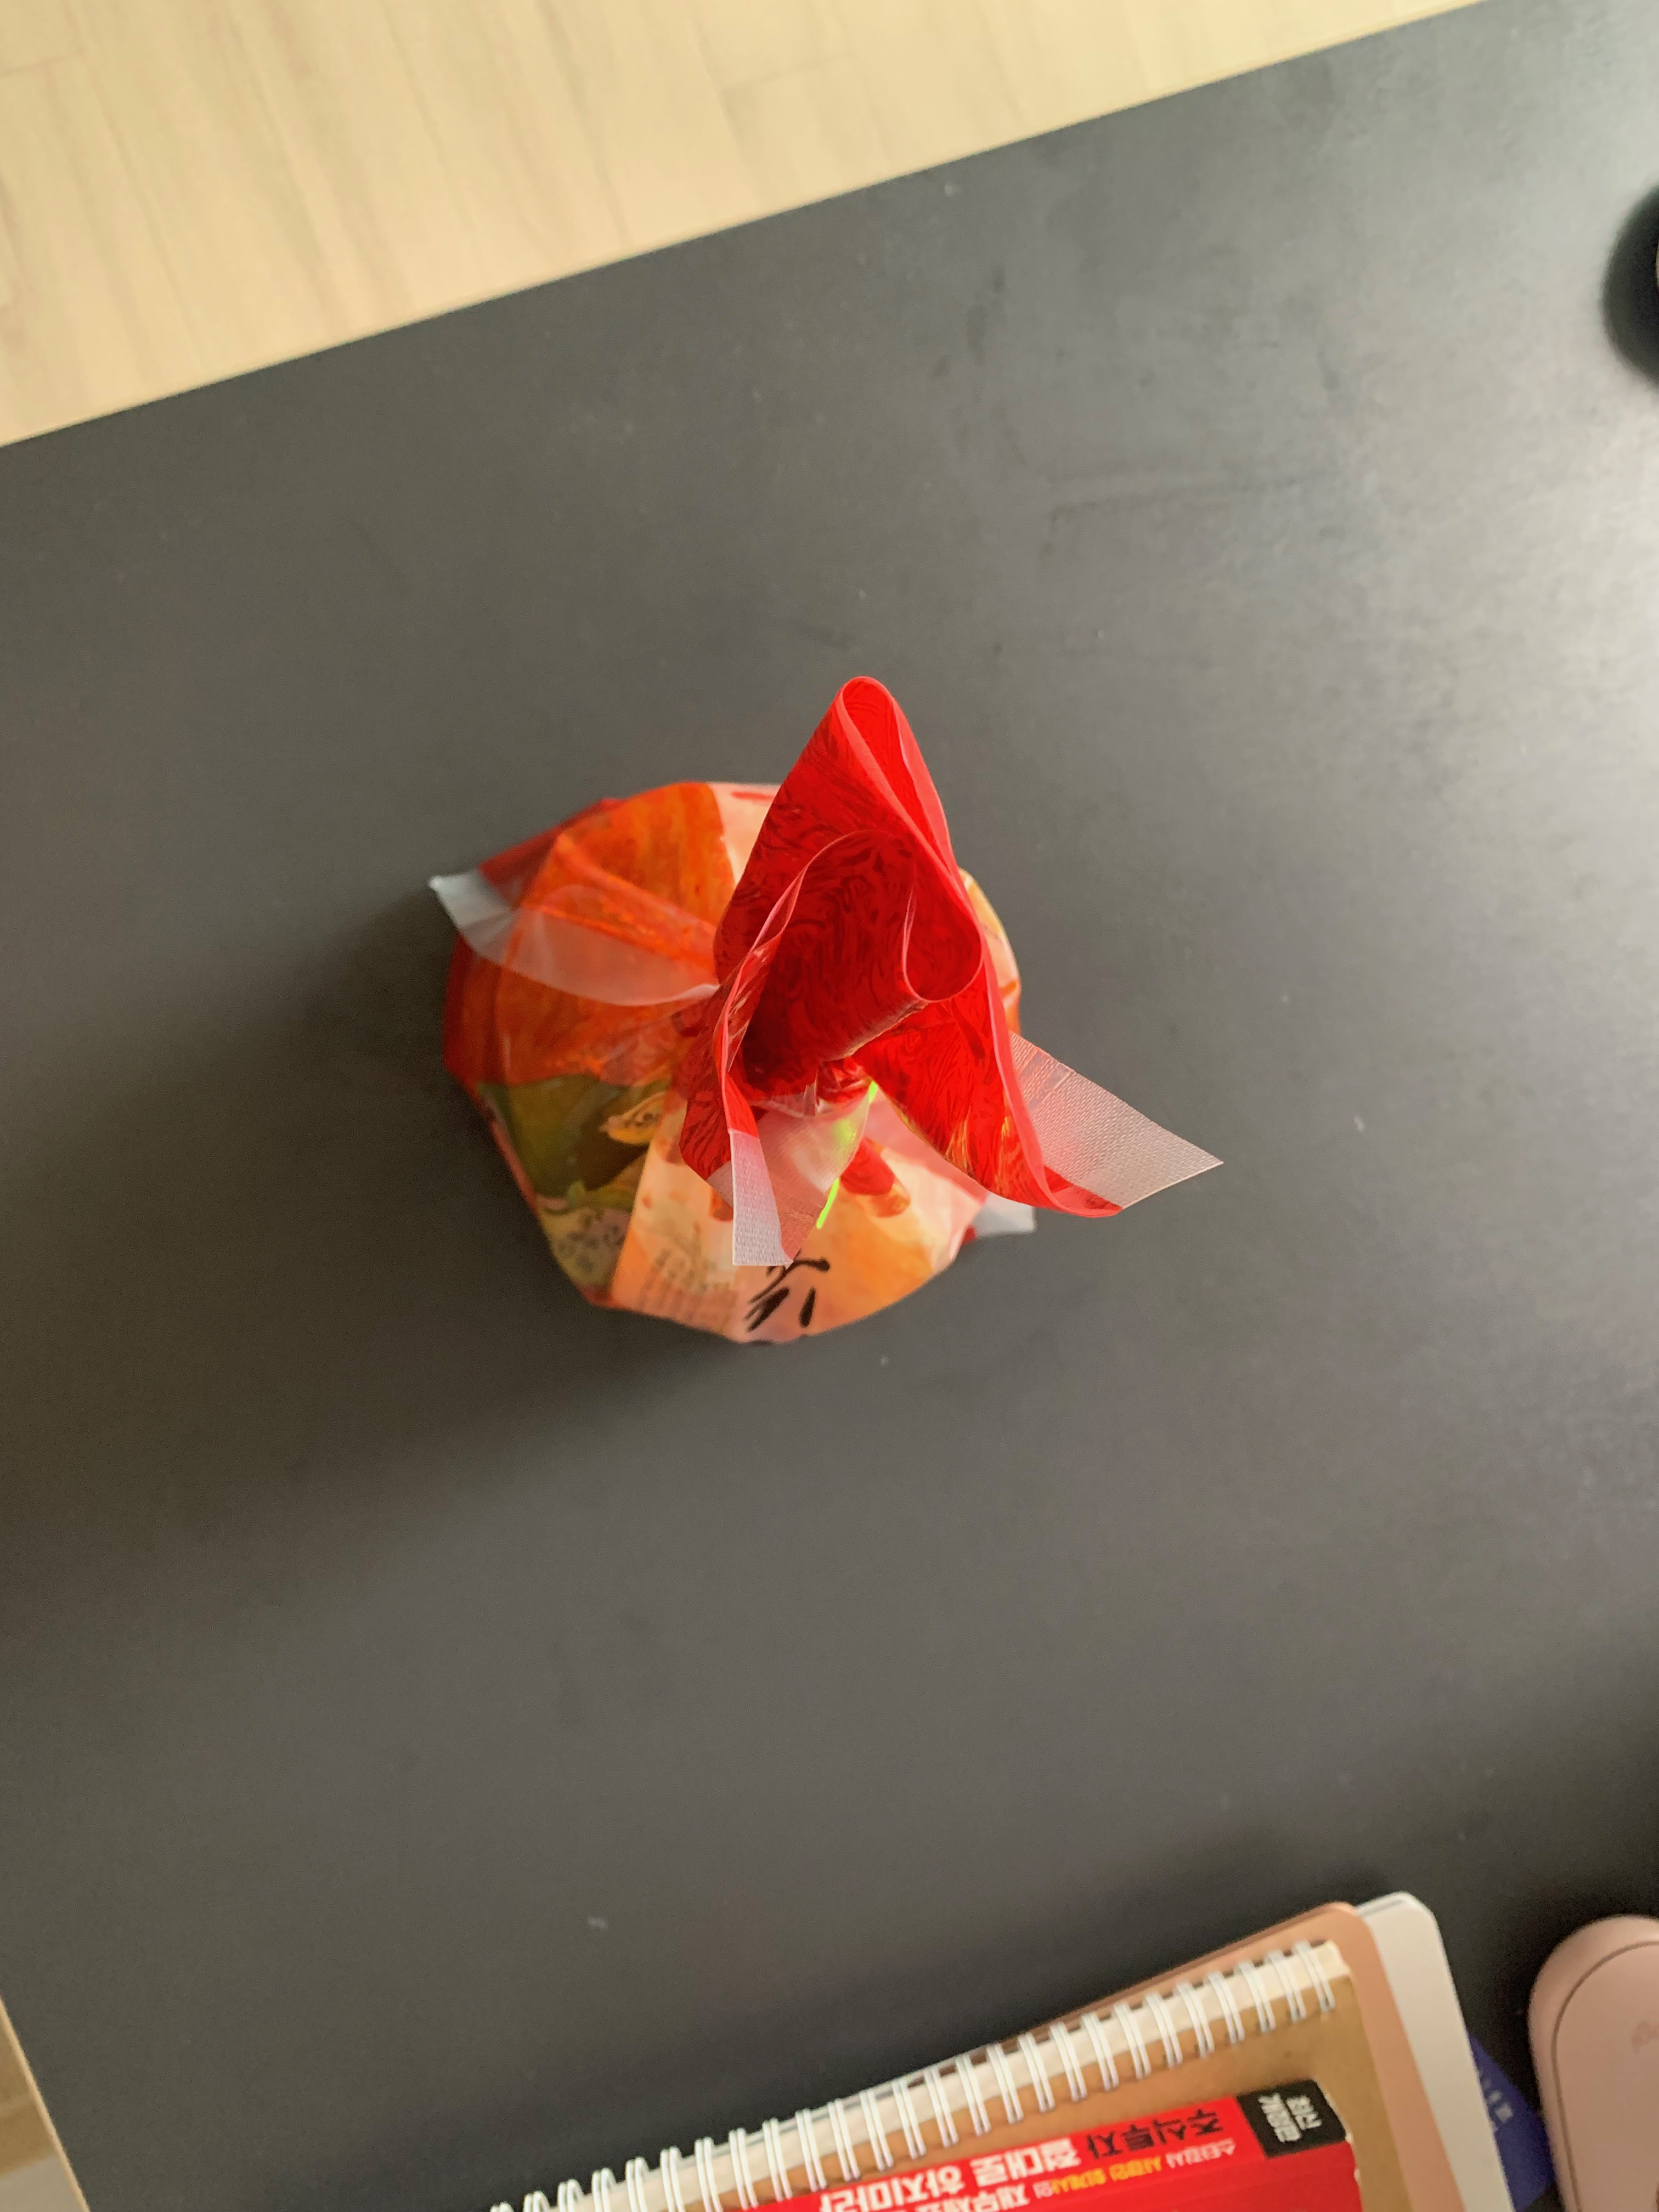kimchi: (432, 683, 1122, 1334)
